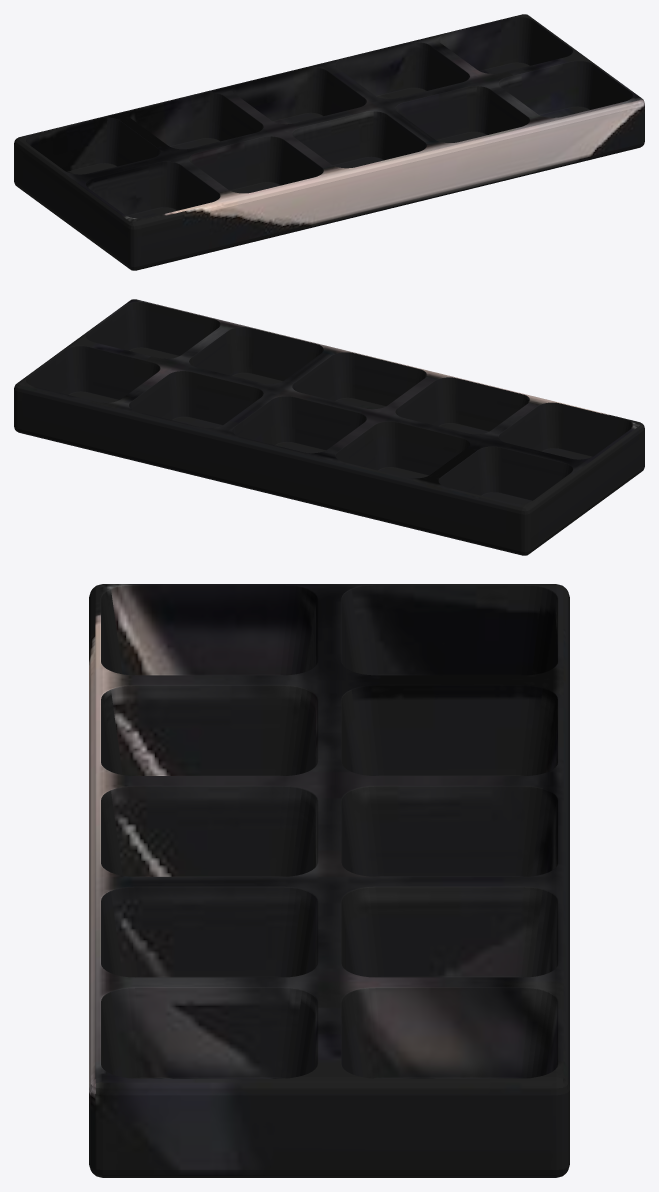
The picture shows the model from 3 angles, top to bottom: view 1: azimuth 30°, elevation 25°; view 2: azimuth 150°, elevation 25°; view 3: azimuth 270°, elevation 25°; orthographic projection. The views are drawn at different scales.
Visible parts, largest first — view 1: molded tray with rounded wells; view 2: molded tray with rounded wells; view 3: molded tray with rounded wells.
Boxes of the visible parts, <box> form: molded tray with rounded wells: <box>14,14,644,270</box>; molded tray with rounded wells: <box>14,299,644,555</box>; molded tray with rounded wells: <box>89,584,569,1177</box>.
Bounding box in the file's own units: 0.2451 × 0.0226 × 0.099.
Materials: 1 (1 with a texture image).
